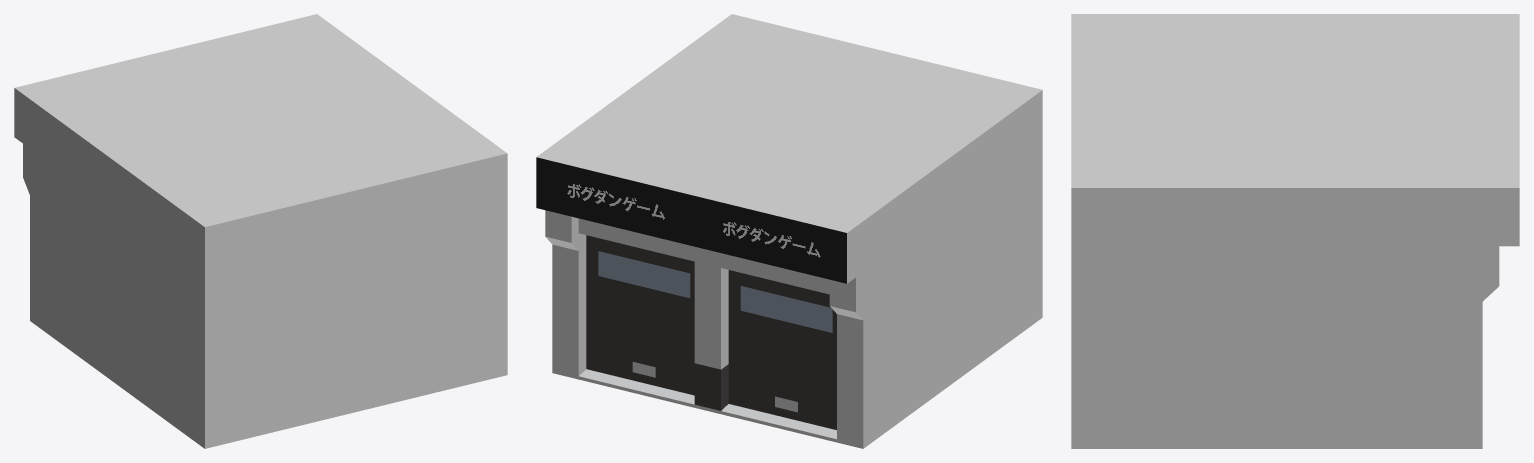
Rendered from Garage2.fbx.
3 views of the same model, side by side, from view 1: azimuth 30°, elevation 25°; view 2: azimuth 150°, elevation 25°; view 3: azimuth 270°, elevation 25° (orthographic). The views are drawn at different scales.
Visible parts, largest first — view 1: pitsGarageClosed; view 2: pitsGarageClosed; view 3: pitsGarageClosed.
Part boxes in pixels (x1,y1,x2,y2): pitsGarageClosed: (14, 14, 507, 448); pitsGarageClosed: (536, 14, 1042, 448); pitsGarageClosed: (1071, 14, 1519, 448).
Bounding box in the file's own units: 1000 × 700 × 1090.
5 materials, 1 textured.
